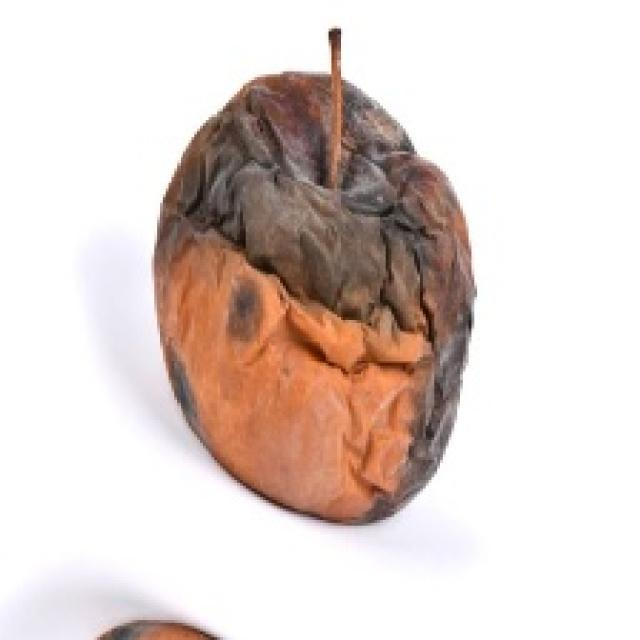rotten_apple: (158, 77, 468, 520)
